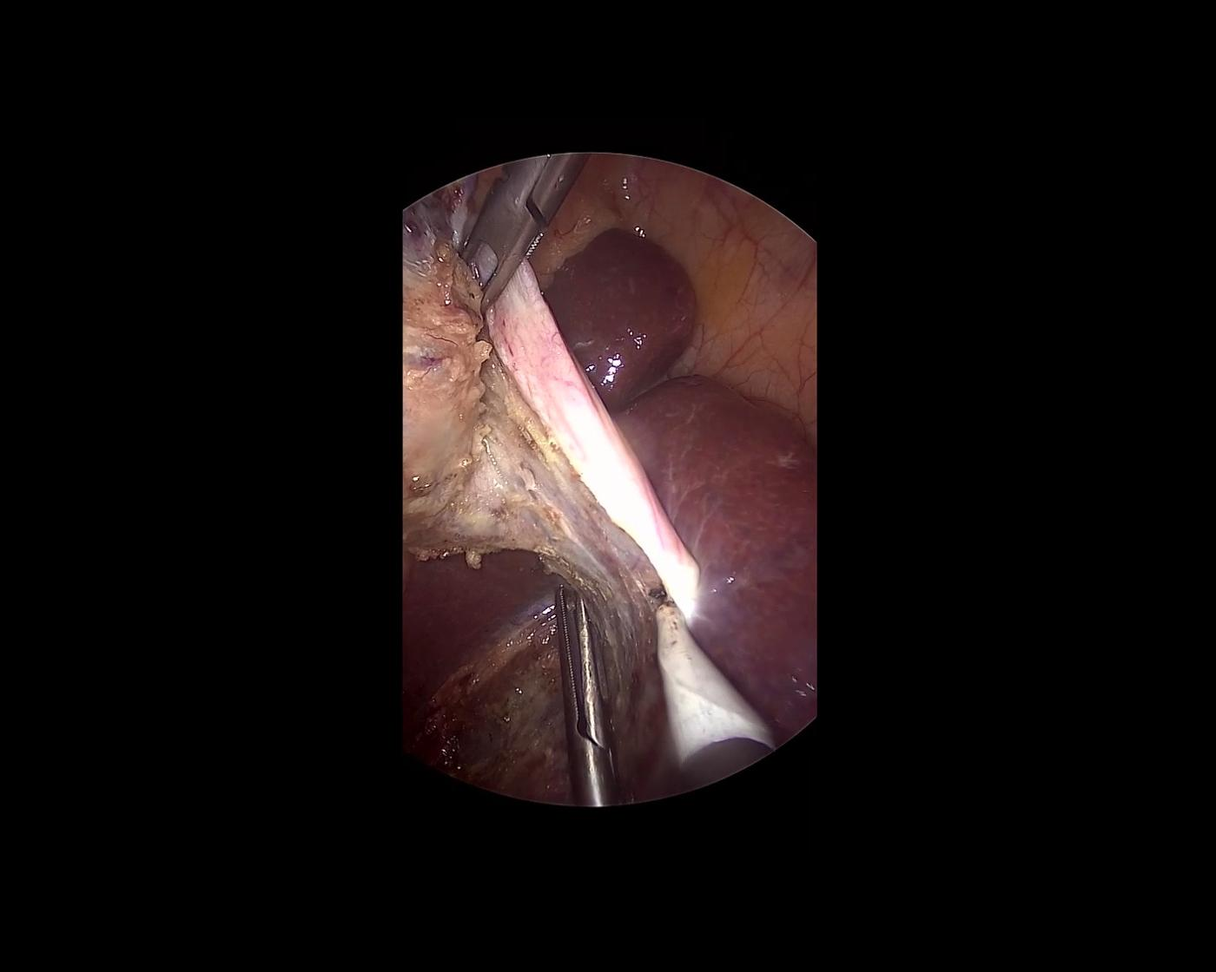Cautery: (631, 579, 777, 793)
Forceps: (430, 119, 592, 319), (556, 581, 618, 811)
Gallbladder: (259, 168, 695, 685)
Liver: (487, 199, 938, 758), (401, 550, 556, 714)
